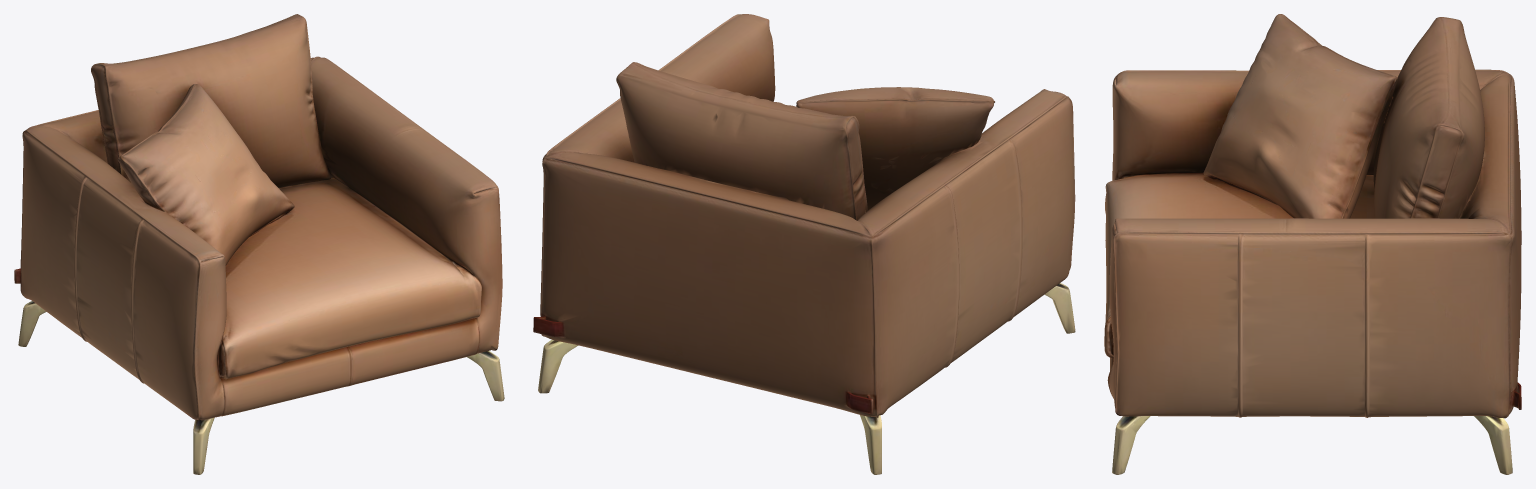
The model's file is armchair-real-castlery-lena-leather-armchair-cocoa-brass-legs.glb.
3 renders of one model, left to right at view 1: azimuth 30°, elevation 25°; view 2: azimuth 150°, elevation 25°; view 3: azimuth 270°, elevation 25°, orthographic. The views are drawn at different scales.
Visible parts, largest first — view 1: node_0; view 2: node_0; view 3: node_0.
Boxes of the visible parts, bbox=[...] form: node_0: bbox=[14, 14, 504, 474]; node_0: bbox=[533, 14, 1075, 474]; node_0: bbox=[1104, 14, 1521, 474].
Size of the model in its own units: 0.7573 by 0.6416 by 0.7559.
1 material, 1 textured.
